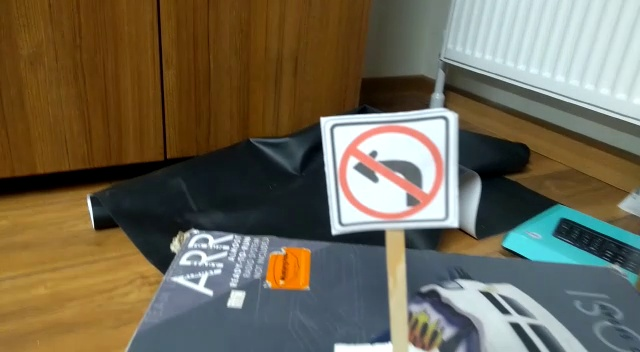sola_donulmez: (334, 117, 450, 226)
